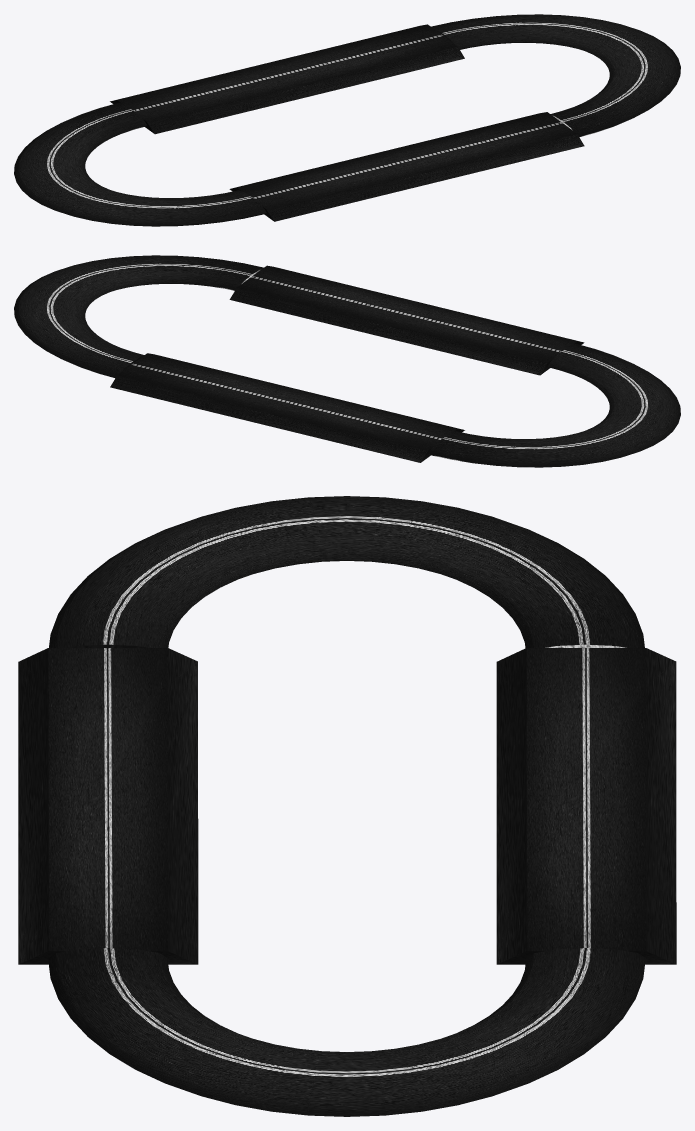
File: carretera.obj
3 renders of one model, top to bottom at view 1: azimuth 30°, elevation 25°; view 2: azimuth 150°, elevation 25°; view 3: azimuth 270°, elevation 25°, orthographic. The views are drawn at different scales.
Visible parts, largest first — view 1: Cubo.001, Cubo, Rosca.001, Rosca; view 2: Cubo.001, Cubo, Rosca.001, Rosca; view 3: Cubo, Cubo.001, Rosca, Rosca.001.
Boxes of the visible parts, box(x1,y1,x2,y2) form: Cubo.001: box(229, 112, 584, 221); Cubo: box(110, 24, 464, 134); Rosca.001: box(14, 102, 266, 226); Rosca: box(431, 14, 680, 137); Cubo.001: box(229, 265, 584, 375); Cubo: box(110, 353, 464, 462); Rosca.001: box(428, 343, 680, 467); Rosca: box(14, 255, 263, 378); Cubo: box(496, 648, 676, 964); Cubo.001: box(18, 648, 198, 964); Rosca: box(48, 948, 645, 1116); Rosca.001: box(49, 496, 644, 648).
Bounding box in the file's own units: 49.01 × 0.75 × 22.01.
